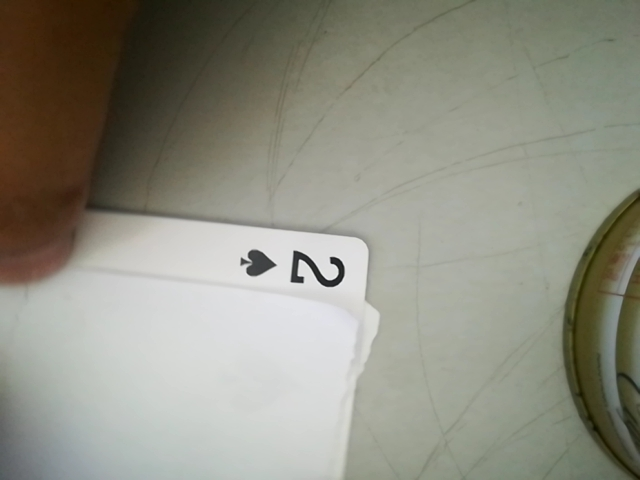ht 2: (234, 237, 365, 300)
